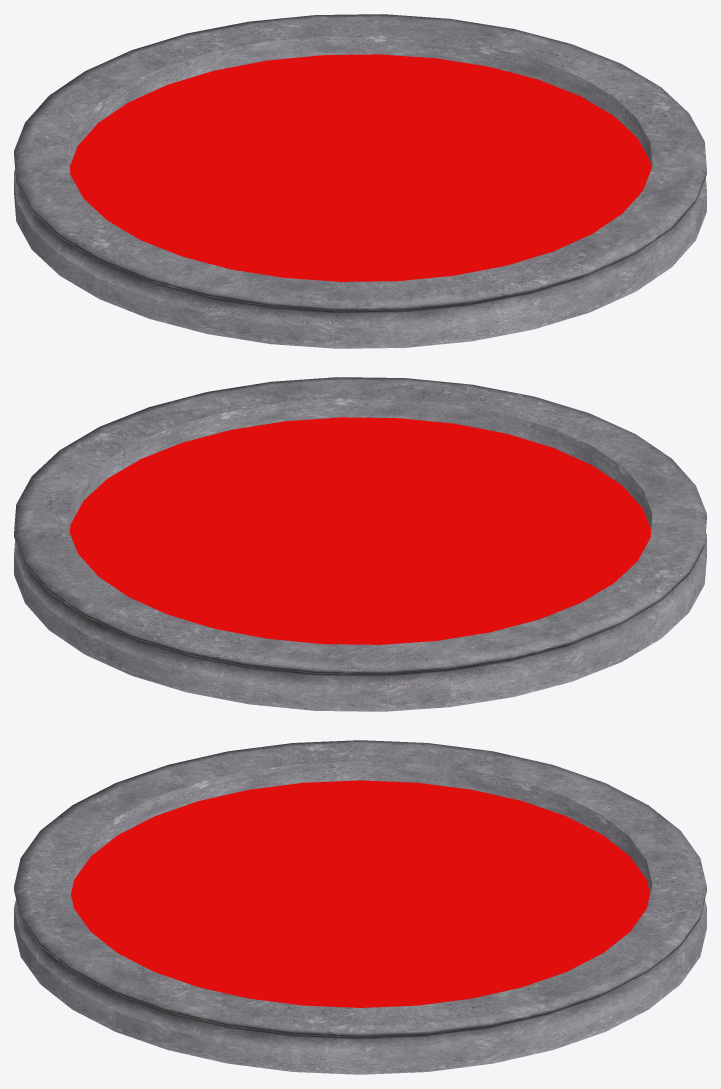
The model's file is WarpGateblend.gltf.
The picture shows the model from 3 angles, top to bottom: view 1: azimuth 30°, elevation 25°; view 2: azimuth 150°, elevation 25°; view 3: azimuth 270°, elevation 25°; orthographic projection.
Parts seen in each view (by area): view 1: Pool; view 2: Pool; view 3: Pool.
Boxes of the visible parts, x1,y1,x2,y2 form: Pool: [14, 14, 706, 348]; Pool: [14, 377, 706, 711]; Pool: [14, 740, 706, 1074].
Size of the model in its own units: 7.46 by 0.5198 by 7.46.
2 materials, 1 textured.
